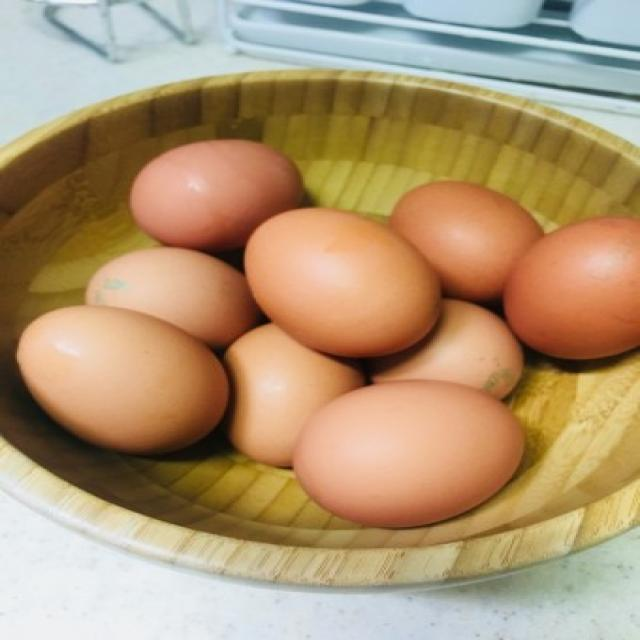eggs: (287, 379, 531, 528), (14, 298, 234, 460), (248, 206, 453, 362), (500, 207, 640, 373), (123, 138, 309, 246), (385, 182, 553, 298), (76, 245, 250, 340), (224, 329, 330, 467)
